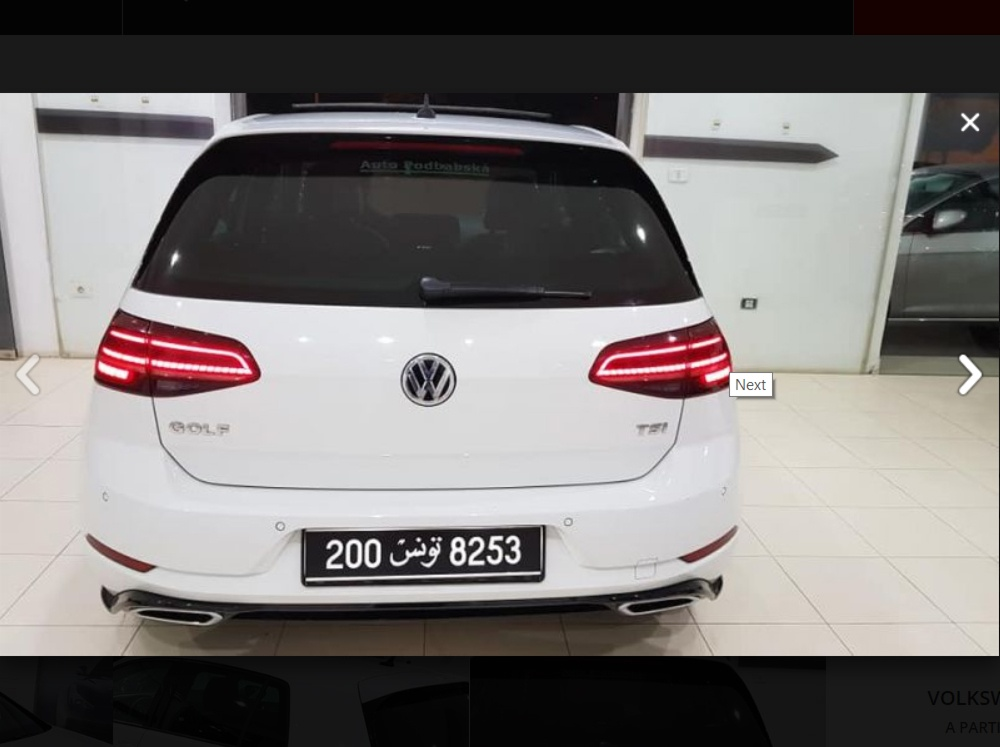LP: (292, 524, 566, 591)
